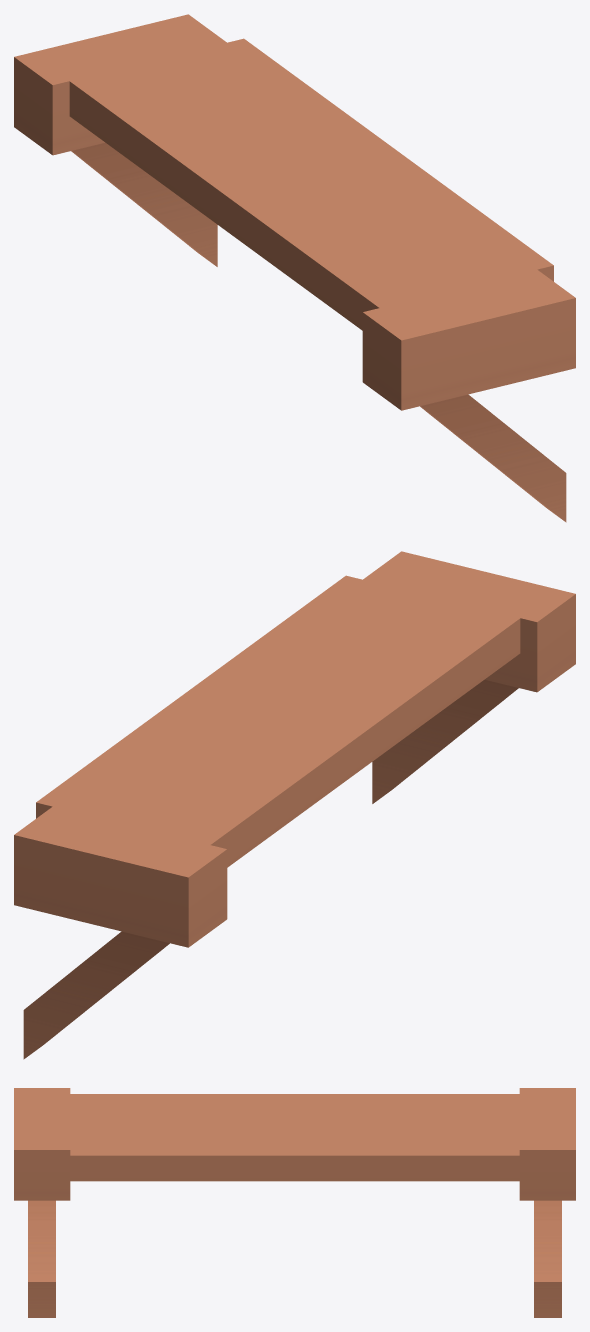
Rendered from overhang.fbx.
3 views of the same model, one above another, from view 1: azimuth 30°, elevation 25°; view 2: azimuth 150°, elevation 25°; view 3: azimuth 270°, elevation 25° (orthographic). The views are drawn at different scales.
Visible parts, largest first — view 1: overhang; view 2: overhang; view 3: overhang.
Boxes of the visible parts, left/top/right/bottom form: overhang: left=14, top=14, right=575, bottom=522; overhang: left=14, top=551, right=575, bottom=1059; overhang: left=14, top=1088, right=575, bottom=1317.
Bounding box in the file's own units: 28.5 × 33 × 100.
1 material, 1 textured.
